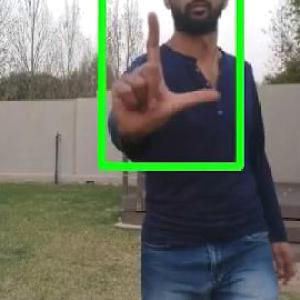land_hand: (107, 7, 222, 139)
